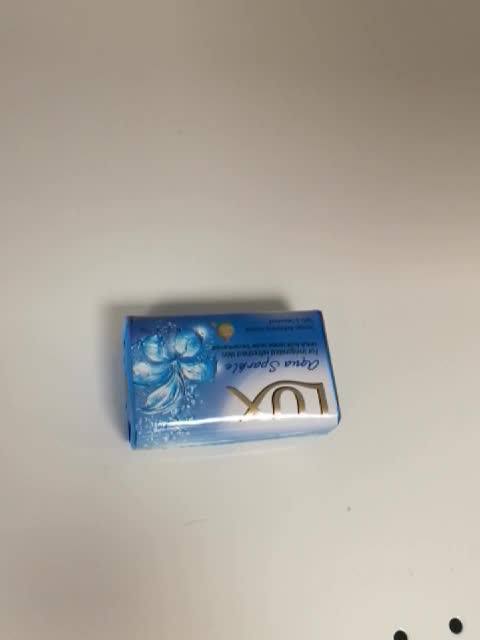soap: (118, 308, 342, 452)
